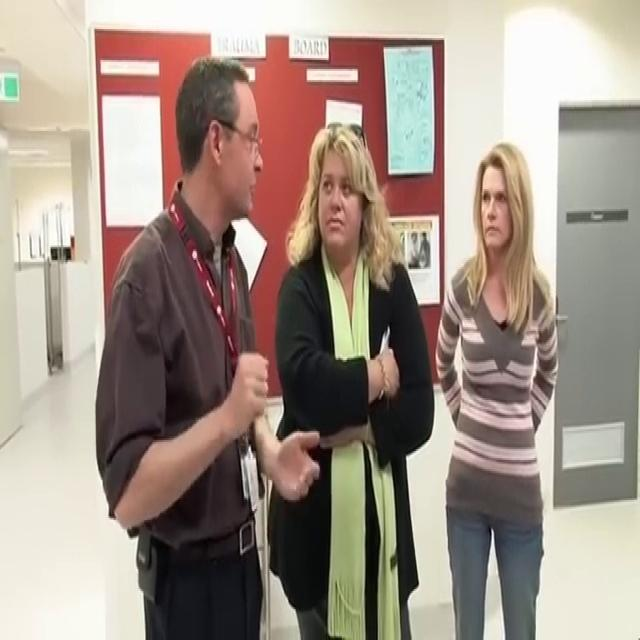doctor: (94, 53, 321, 638)
others: (267, 120, 434, 638), (434, 140, 559, 638)
